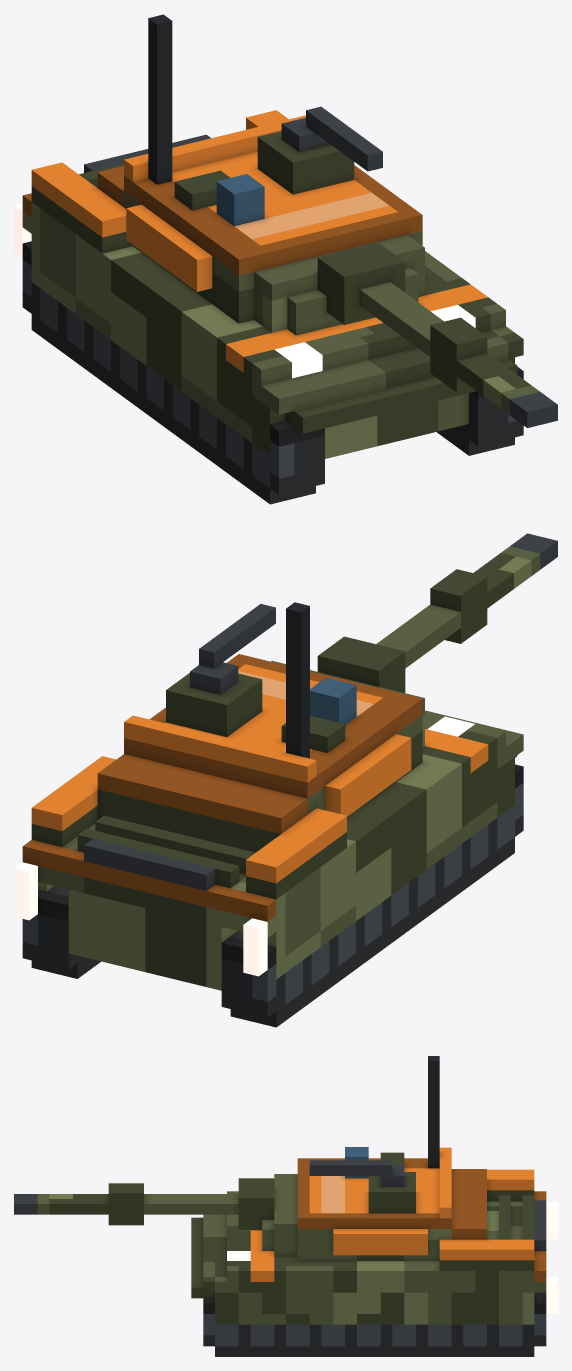
File: cm_tank_5.glb
3 renders of one model, top to bottom at view 1: azimuth 30°, elevation 25°; view 2: azimuth 150°, elevation 25°; view 3: azimuth 270°, elevation 25°, orthographic. The views are drawn at different scales.
Parts seen in each view (by area): view 1: cm_tank_5_body; view 2: cm_tank_5_body; view 3: cm_tank_5_body.
Part boxes in pixels (box(x1,y1,x2,y2)): cm_tank_5_body: box(14, 14, 557, 504); cm_tank_5_body: box(14, 533, 557, 1027); cm_tank_5_body: box(14, 1056, 557, 1356).
Size of the model in its own units: 1 by 1.38 by 2.88.
Materials: 1 (1 with a texture image).
